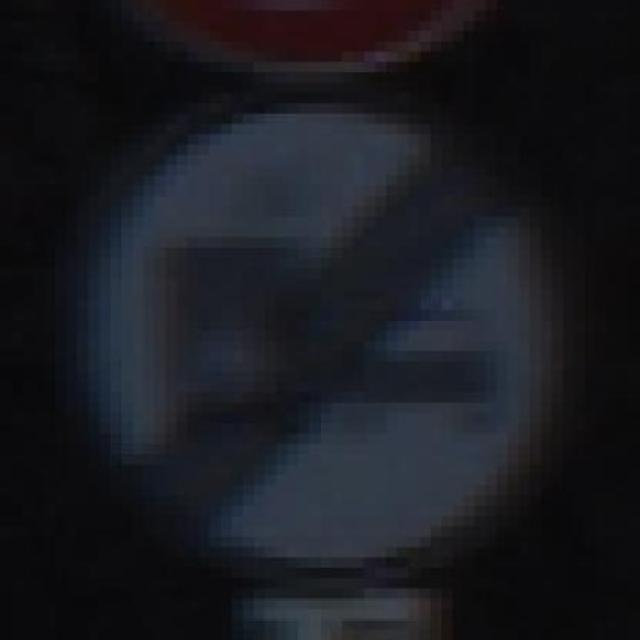Overtaking by trucks is prohibited: (44, 82, 607, 600)
